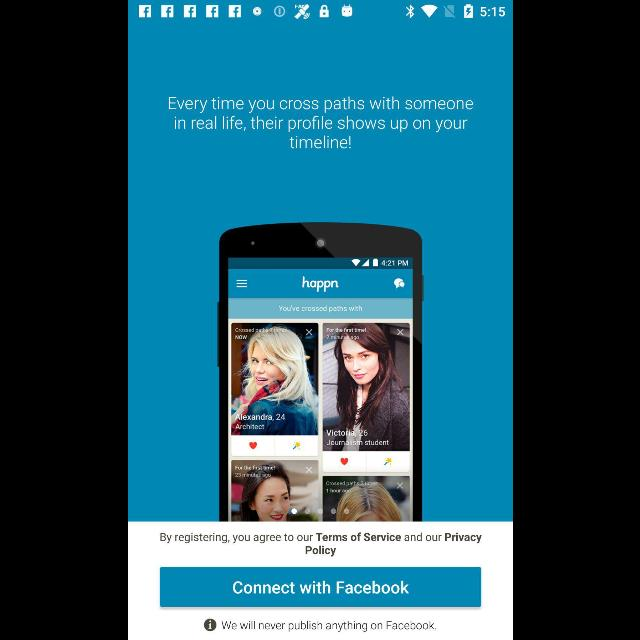icon: (204, 618, 216, 632)
image: (216, 223, 424, 522)
text: (168, 97, 472, 149), (159, 532, 481, 556), (220, 620, 436, 632)
textbutton: (159, 567, 481, 607)
uppertaskbar: (128, 1, 512, 21)
